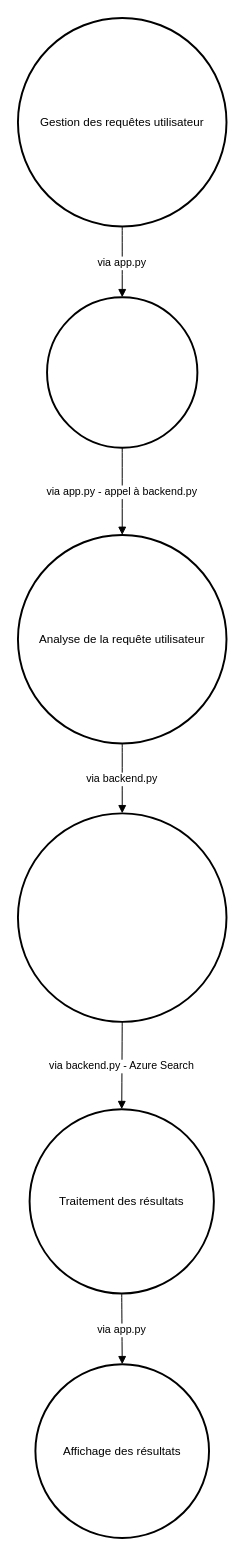
Image size: 243x1555. Some labels were removed from this diagram. The box of each missing label's shape, as (x1, y1, x2, y2) in pixels:
Interrogation de la base Azure Search: (16, 812, 227, 1022)
Recherche de livres: (46, 296, 198, 448)
